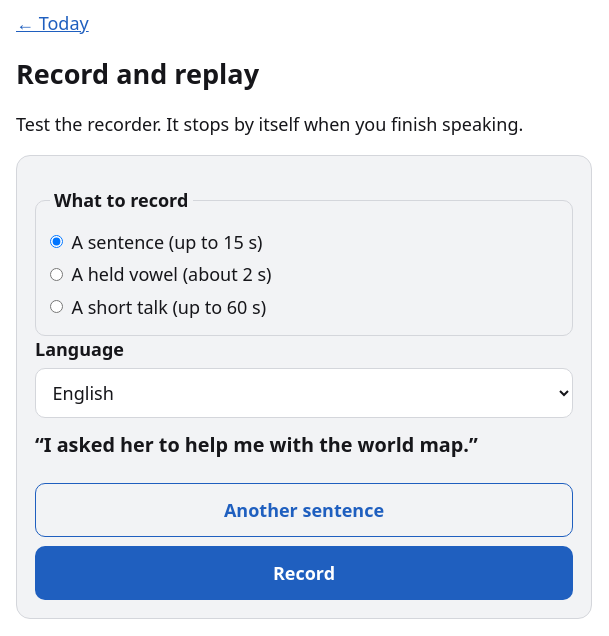
Test: record screen › Recorder_TalkMode_ShowsTalkPrompt
Click the radio button labelled "A short talk (up to 60 s)" at (56, 306), box x1=50 y1=300 x2=62 y2=313
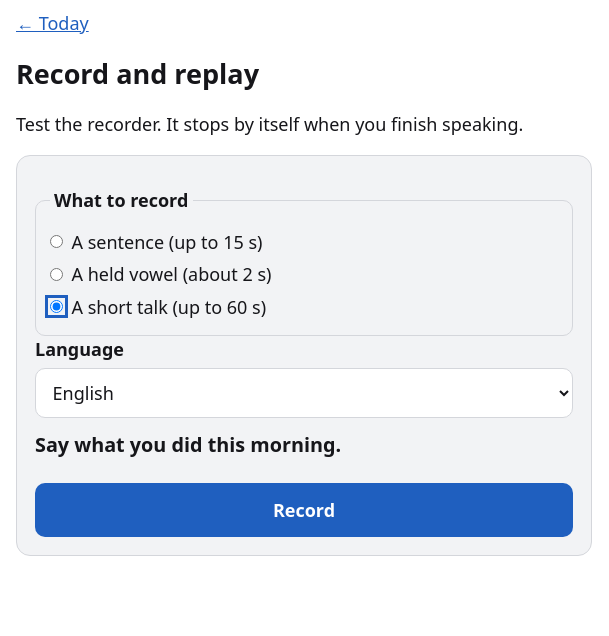
Check: the text "Say what you did this morning." is shown, box x1=35 y1=431 x2=341 y2=458
